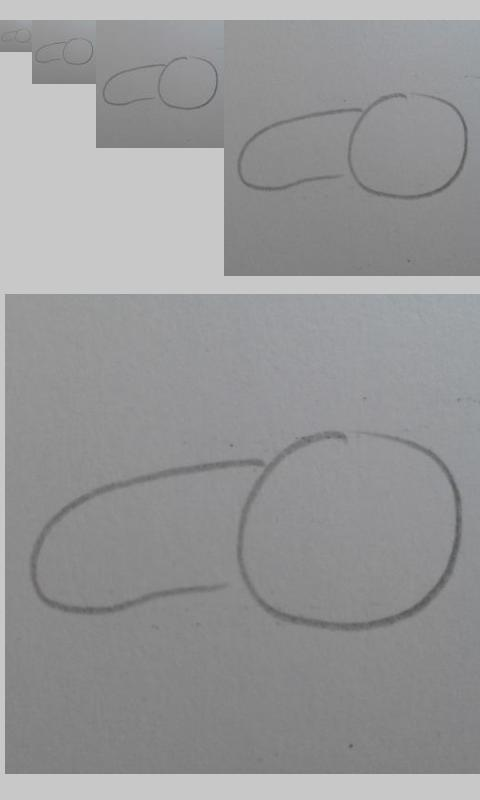switch: (30, 430, 464, 632), (238, 91, 469, 200), (102, 54, 219, 111), (34, 37, 94, 65), (1, 27, 32, 43)
